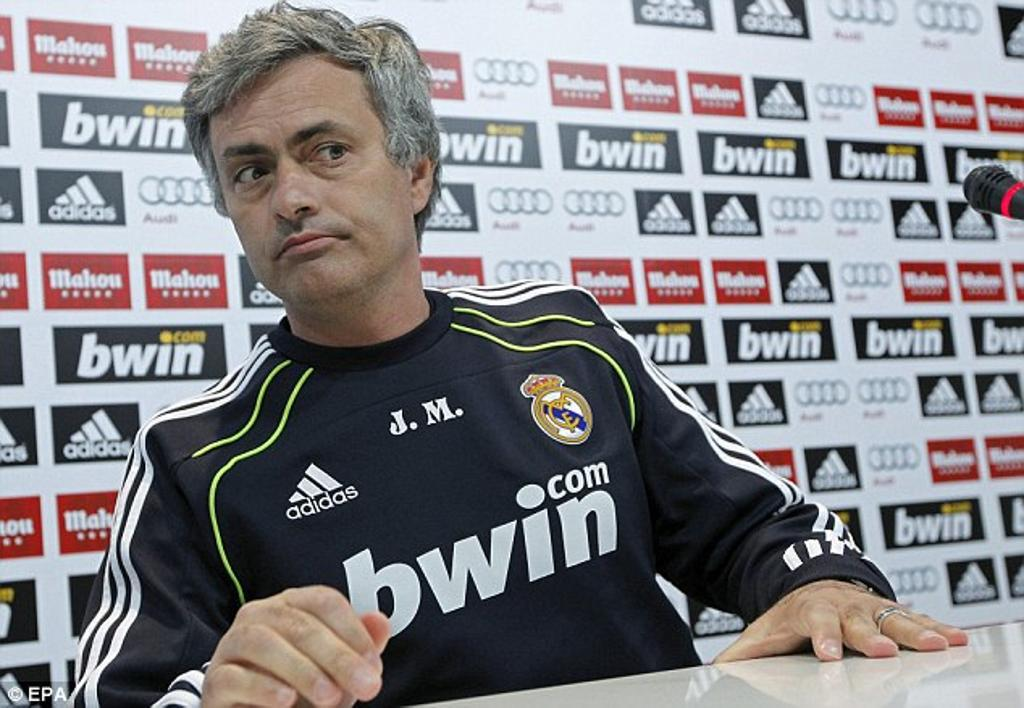face: (215, 63, 411, 299)
